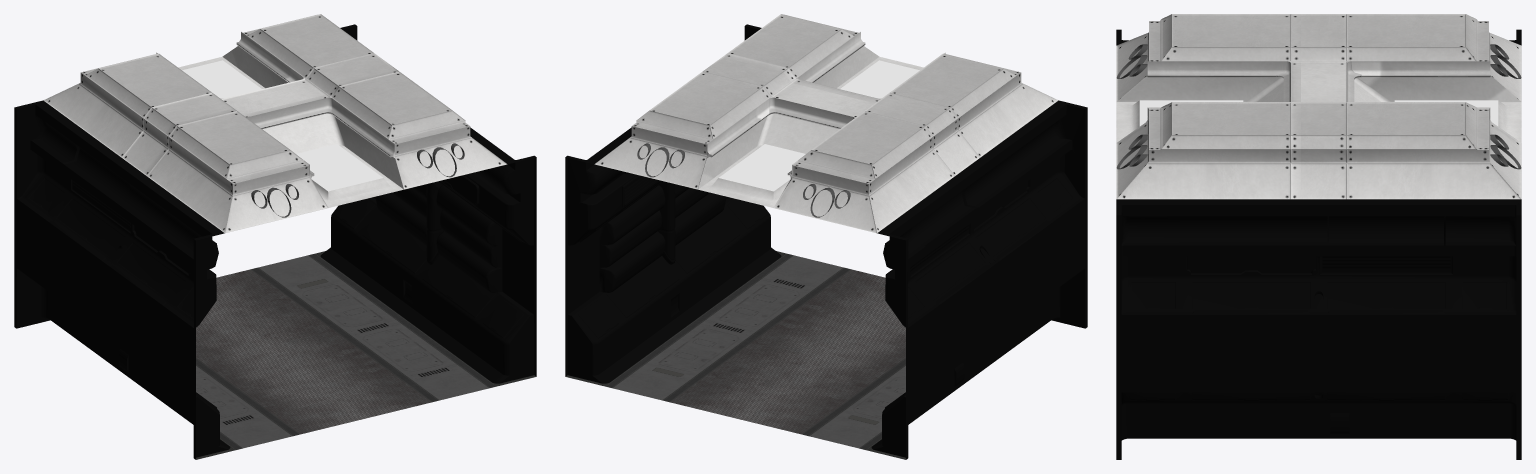
Rendered from HallwayStraightShort.fbx.
3 views of the same model, side by side, from view 1: azimuth 30°, elevation 25°; view 2: azimuth 150°, elevation 25°; view 3: azimuth 270°, elevation 25° (orthographic). The views are drawn at different scales.
Parts seen in each view (by area): view 1: HallwayStraightShort001; view 2: HallwayStraightShort001; view 3: HallwayStraightShort001.
Boxes of the visible parts, <box> form: HallwayStraightShort001: <box>14,14,536,459</box>; HallwayStraightShort001: <box>565,14,1087,459</box>; HallwayStraightShort001: <box>1116,14,1521,459</box>.
Size of the model in its own units: 650 by 478 by 600.
